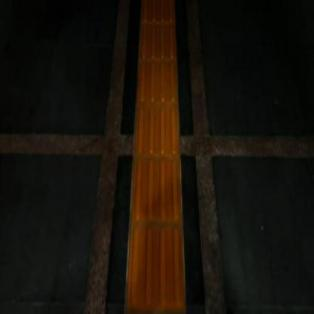Podoctatil: (129, 3, 186, 312)
